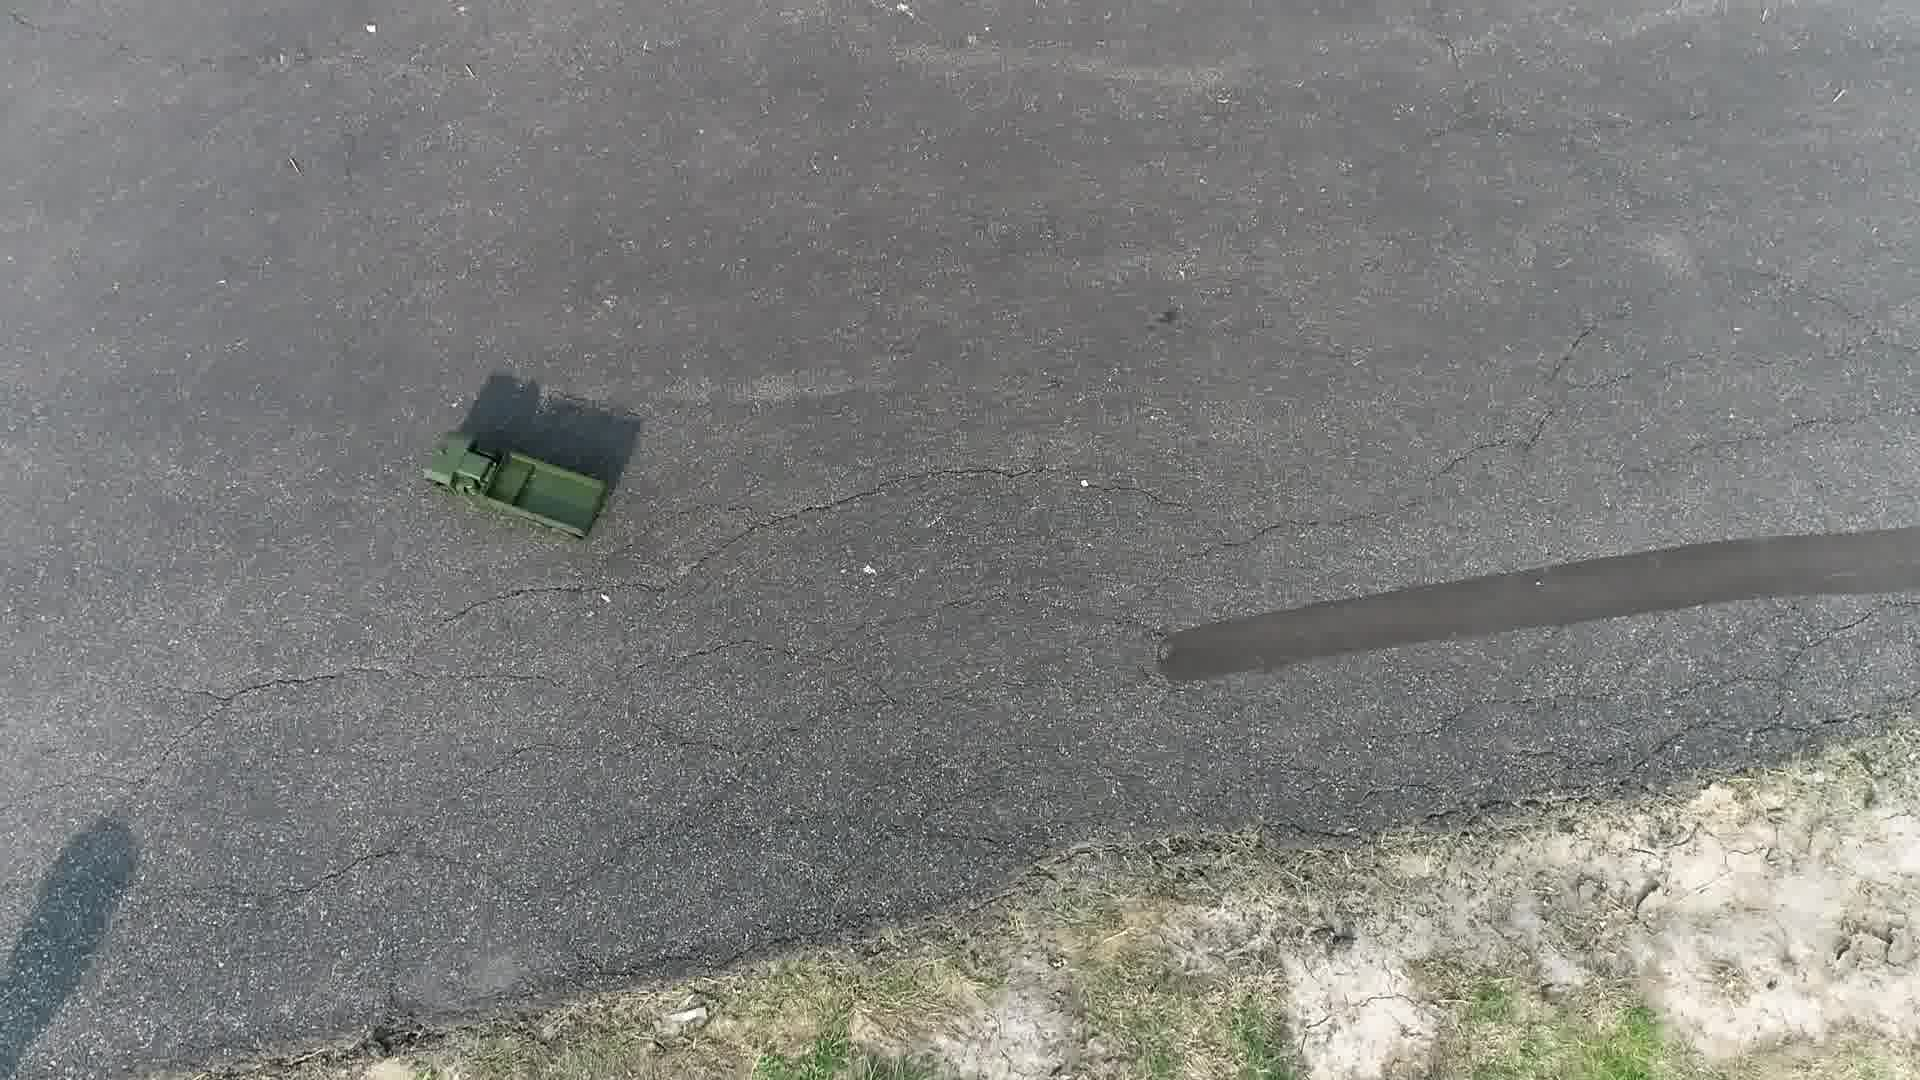transporter9: (425, 429, 616, 549)
